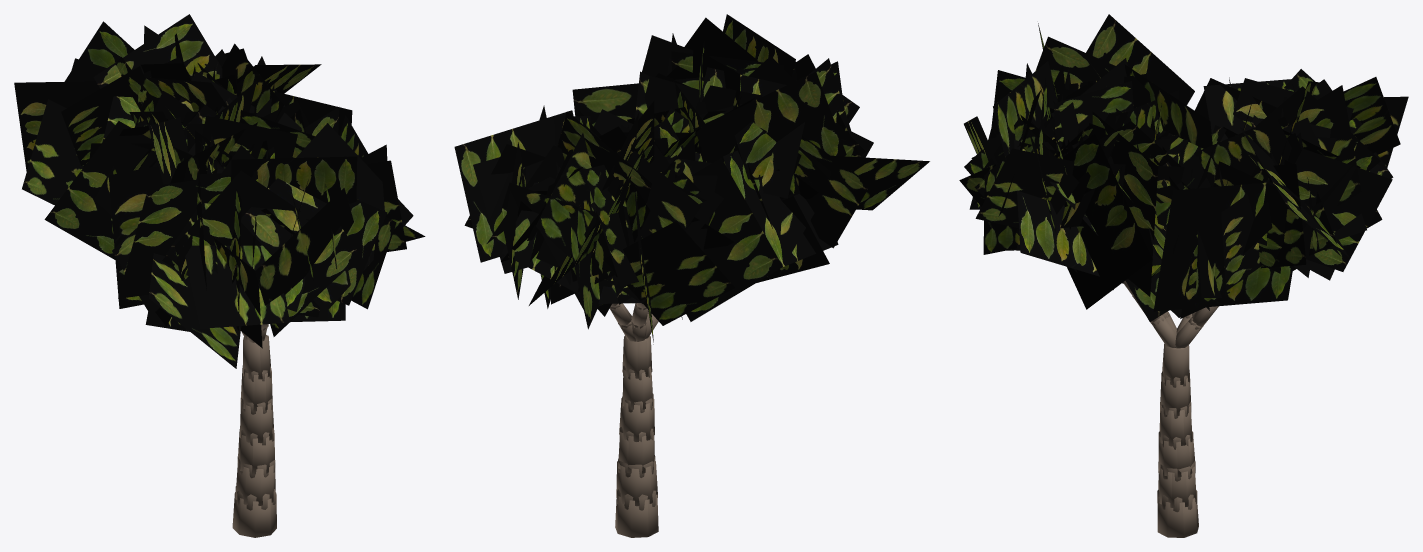
3 views of the same model, side by side, from view 1: azimuth 30°, elevation 25°; view 2: azimuth 150°, elevation 25°; view 3: azimuth 270°, elevation 25° (orthographic). The views are drawn at different scales.
Parts seen in each view (by area): view 1: plane; view 2: plane; view 3: plane.
Boxes of the visible parts, box(x1,y1,x2,y2) form: plane: box(14, 14, 425, 537); plane: box(454, 14, 929, 537); plane: box(959, 14, 1408, 537).
Bounding box in the file's own units: 8.39 × 11.51 × 10.43.
Materials: 2 (1 with a texture image).
